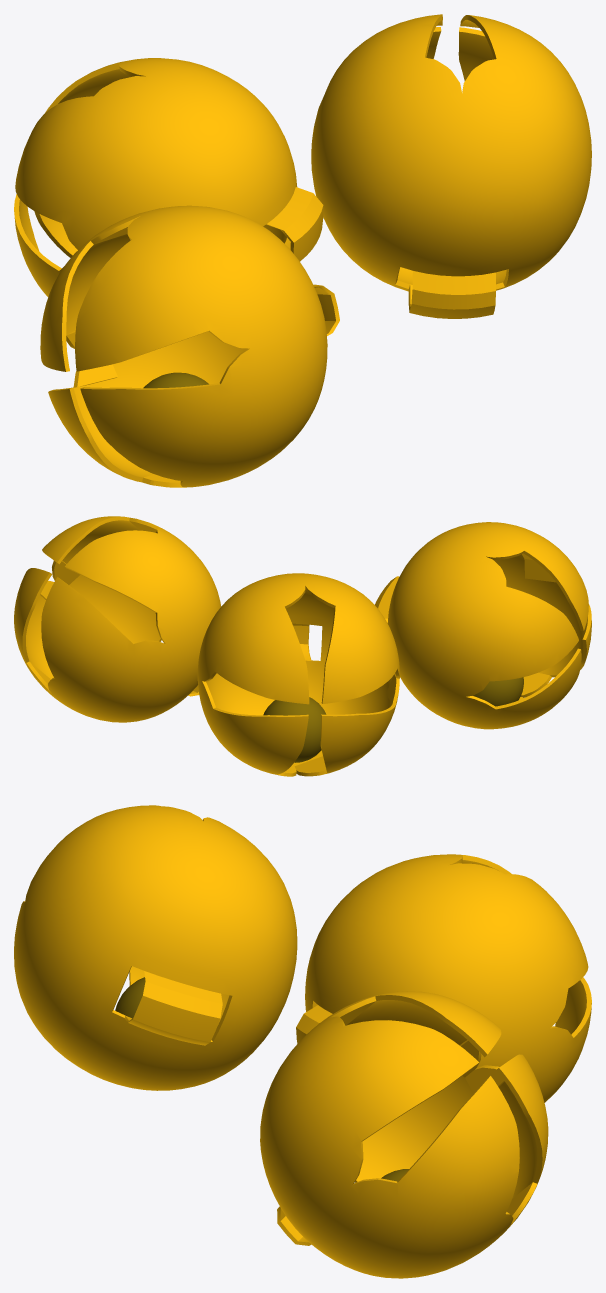
The picture shows the model from 3 angles, top to bottom: view 1: azimuth 30°, elevation 25°; view 2: azimuth 150°, elevation 25°; view 3: azimuth 270°, elevation 25°; orthographic projection. The views are drawn at different scales.
Visible parts, largest first — view 1: Mesh_1, Mesh_2, Mesh_0; view 2: Mesh_1, Mesh_2, Mesh_0; view 3: Mesh_1, Mesh_2, Mesh_0.
Boxes of the visible parts, box(x1,y1,x2,y2) form: Mesh_1: box(14, 58, 339, 487); Mesh_2: box(311, 14, 591, 318); Mesh_0: box(143, 372, 208, 388); Mesh_1: box(197, 522, 591, 776); Mesh_2: box(14, 516, 220, 722); Mesh_0: box(263, 677, 523, 762); Mesh_1: box(14, 805, 591, 1102); Mesh_2: box(260, 991, 548, 1278); Mesh_0: box(115, 977, 408, 1181).
Bounding box in the file's own units: 0.0217 × 0.00865 × 0.0171.
